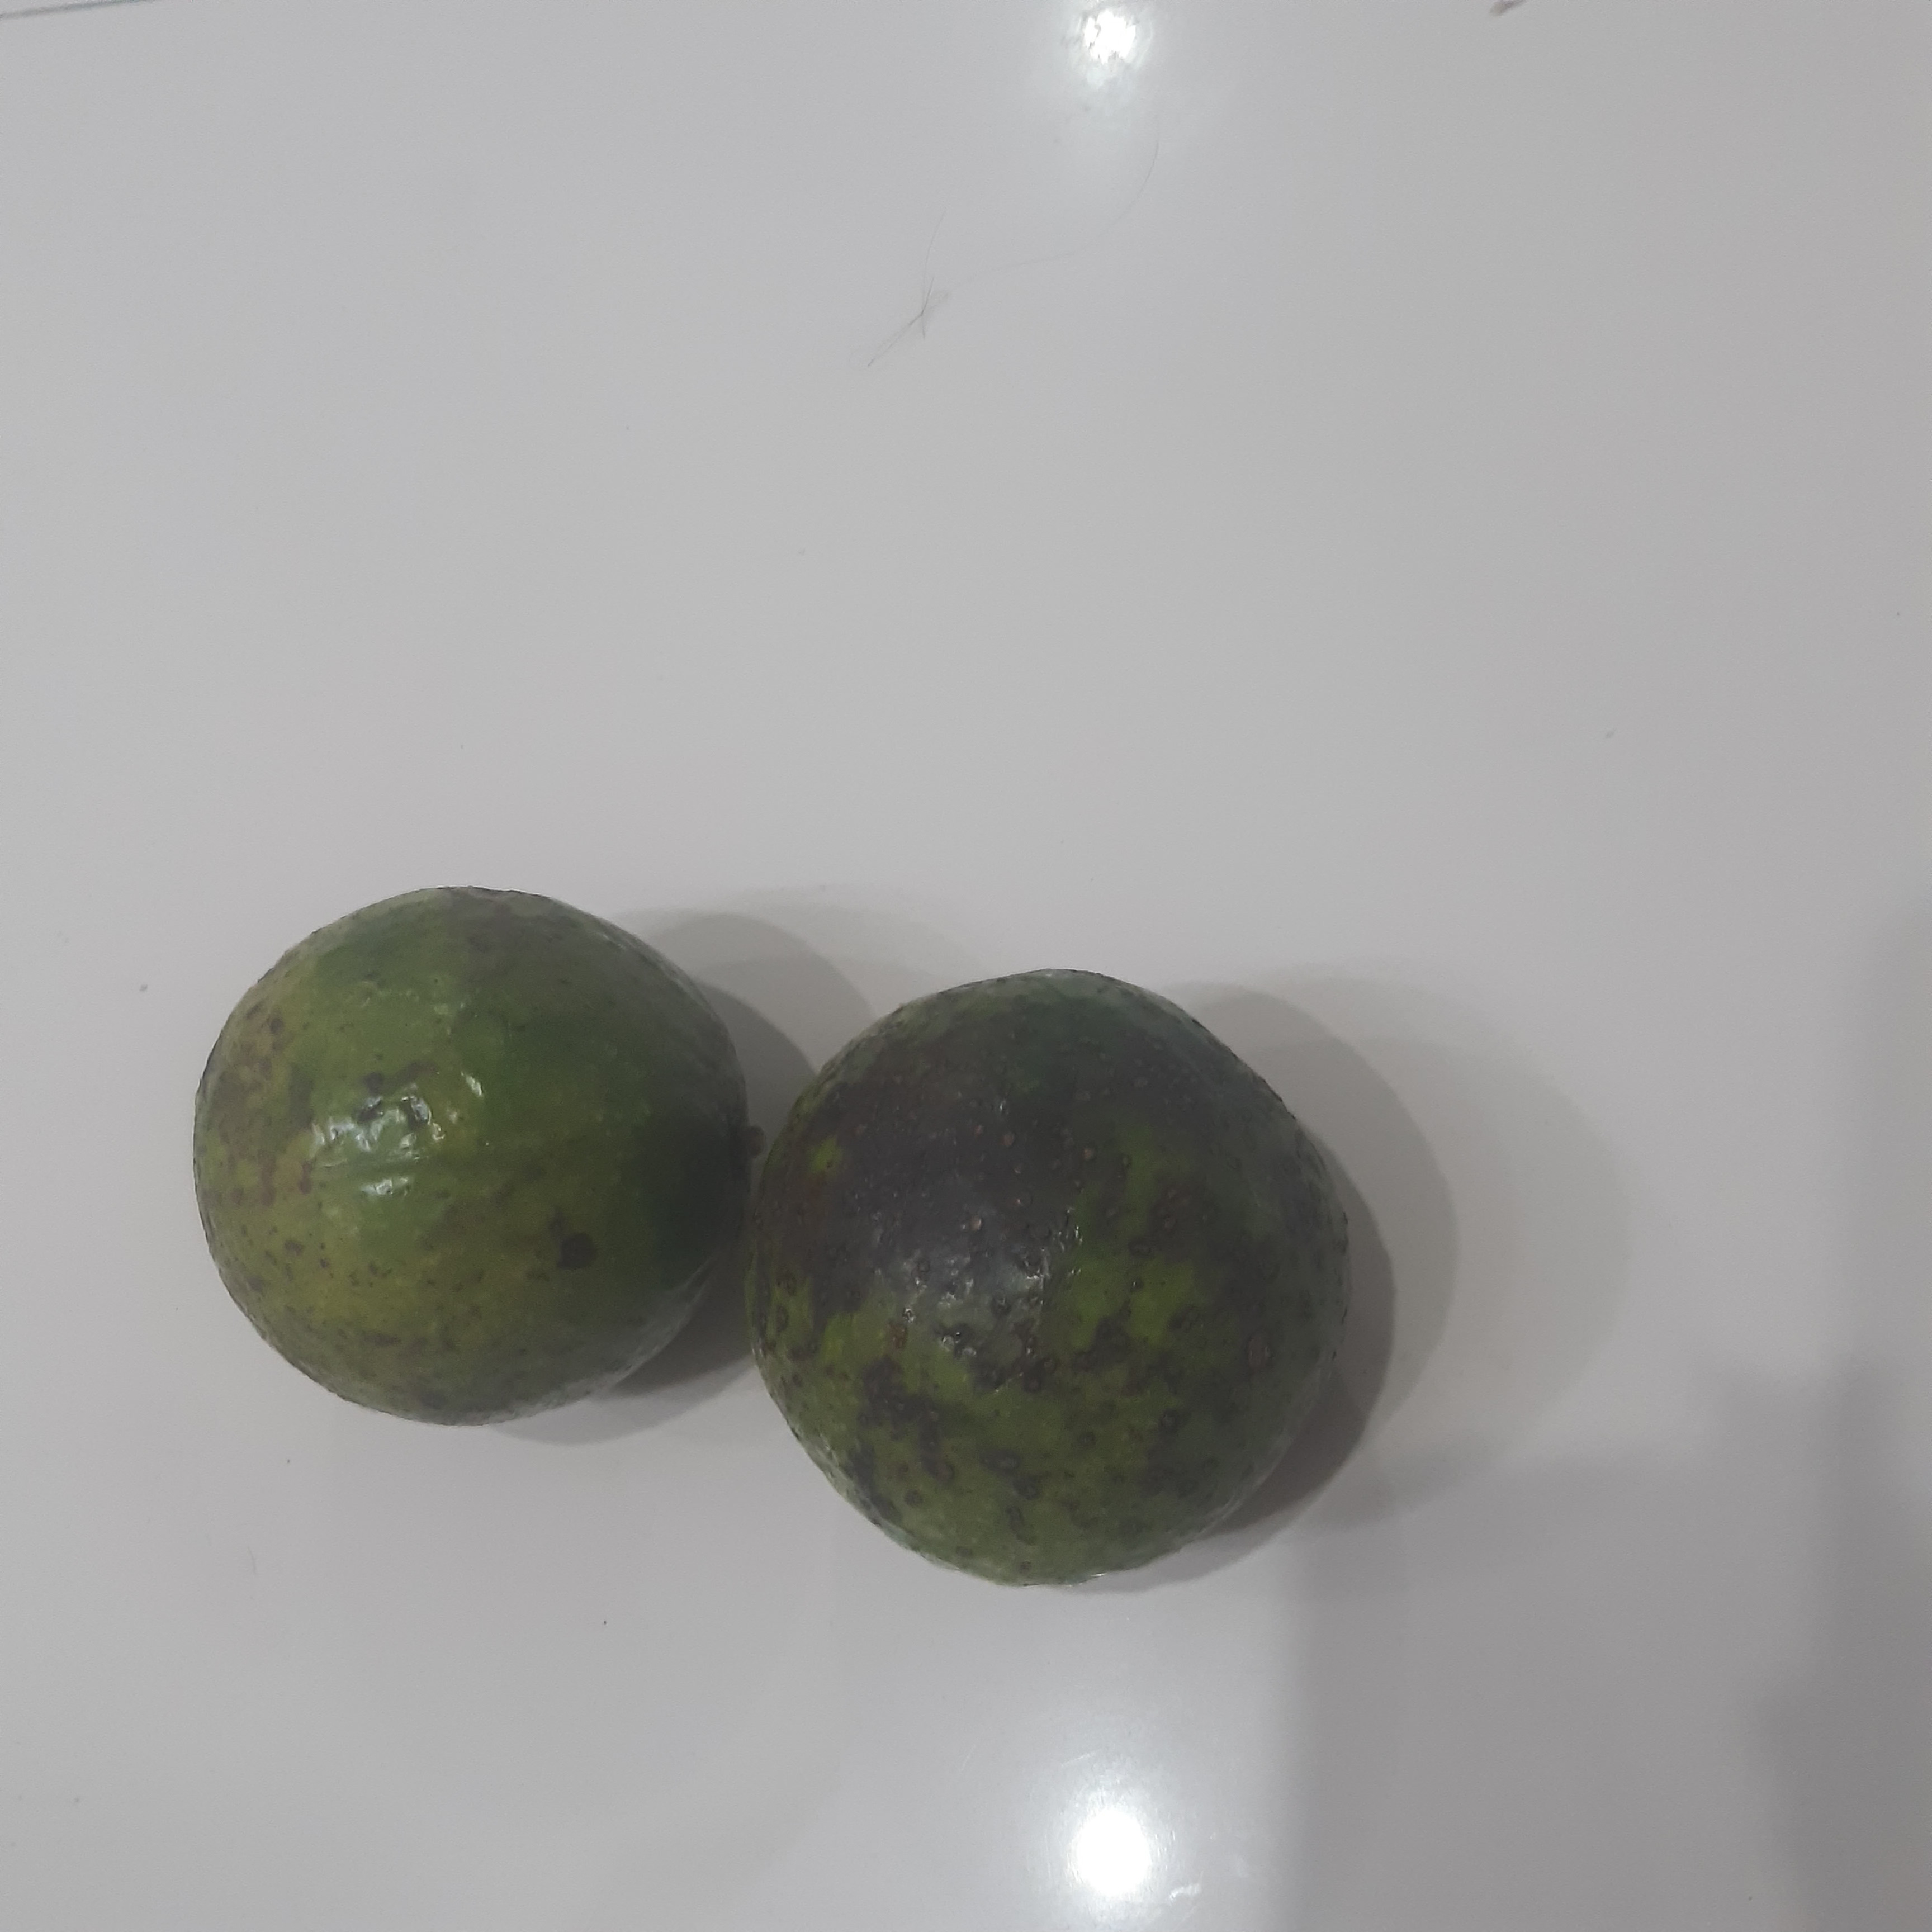Bo: (749, 963, 1351, 1587), (190, 883, 757, 1429)
